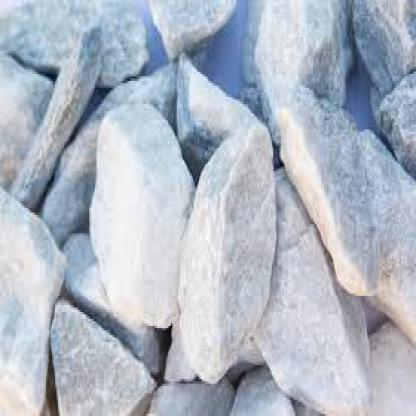Metamorphic_Marble: (275, 84, 414, 314), (159, 120, 273, 368), (88, 97, 198, 326), (39, 289, 153, 414)
